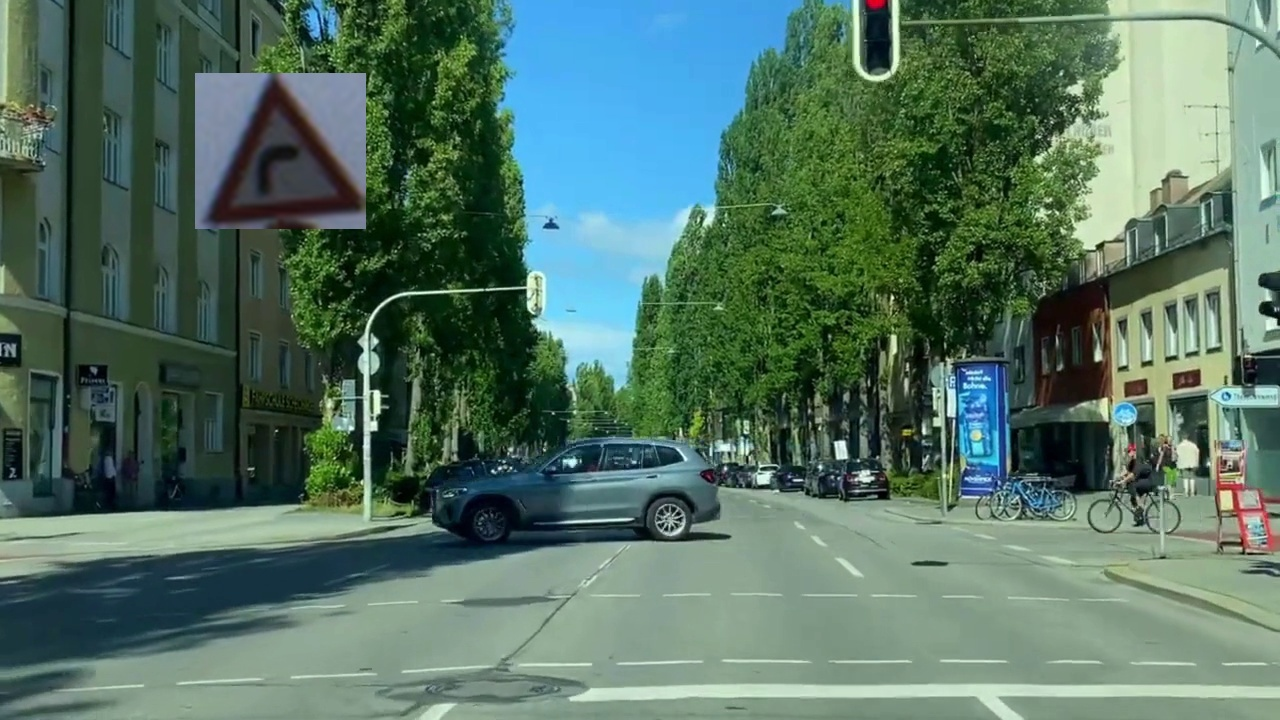Curve right: (195, 73, 366, 229)
